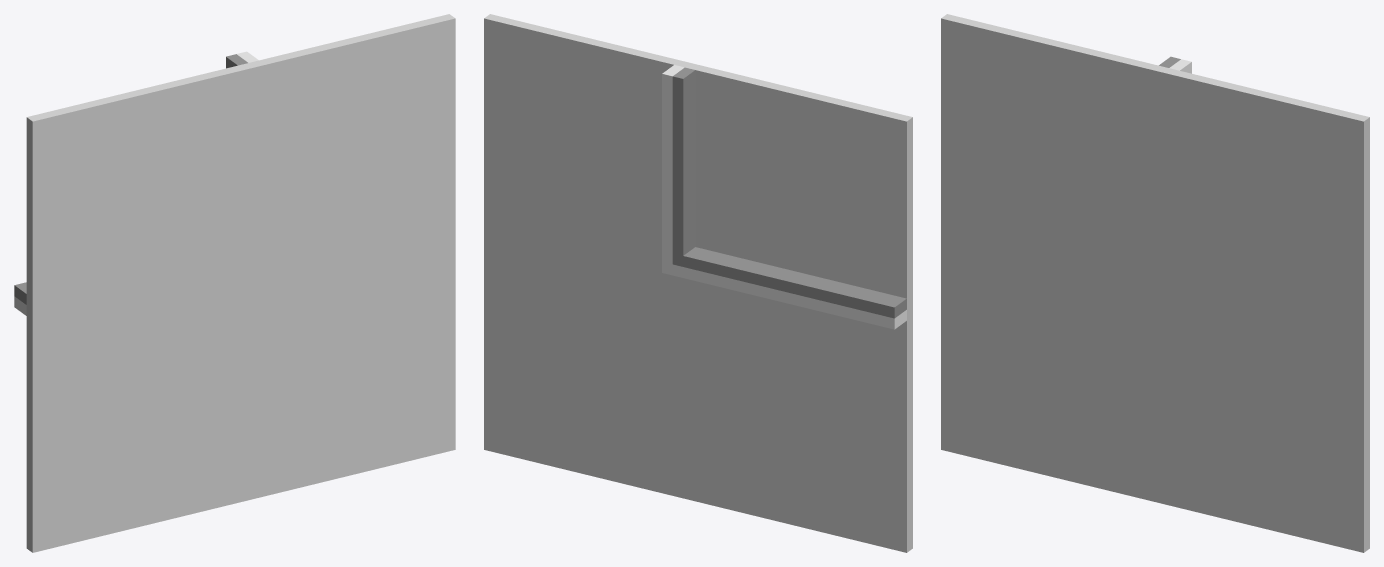
File: wall_light2_wf.obj
3 views of the same model, side by side, from view 1: azimuth 30°, elevation 25°; view 2: azimuth 150°, elevation 25°; view 3: azimuth 330°, elevation 25° (orthographic).
Size of the model in its own units: 4 by 3.9 by 0.3.
